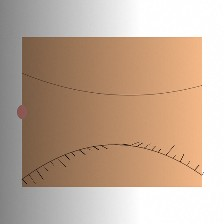hemorrhage_spot: (100, 69, 195, 145)
